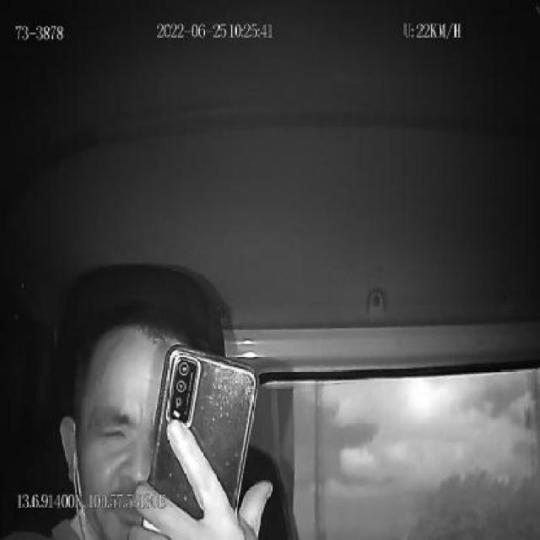phone: (143, 345, 258, 540)
